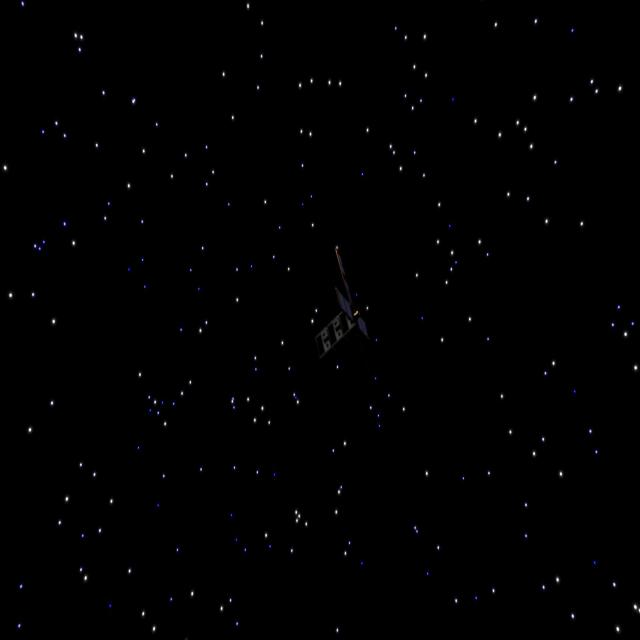medium_debris: (313, 247, 389, 361)
